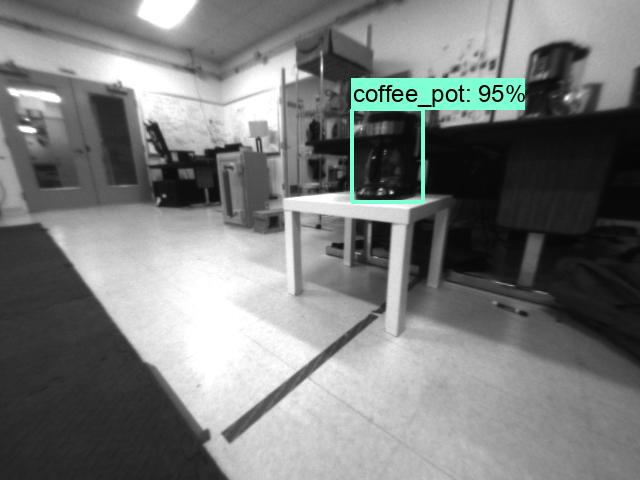coffee_pot: (353, 110, 421, 199)
